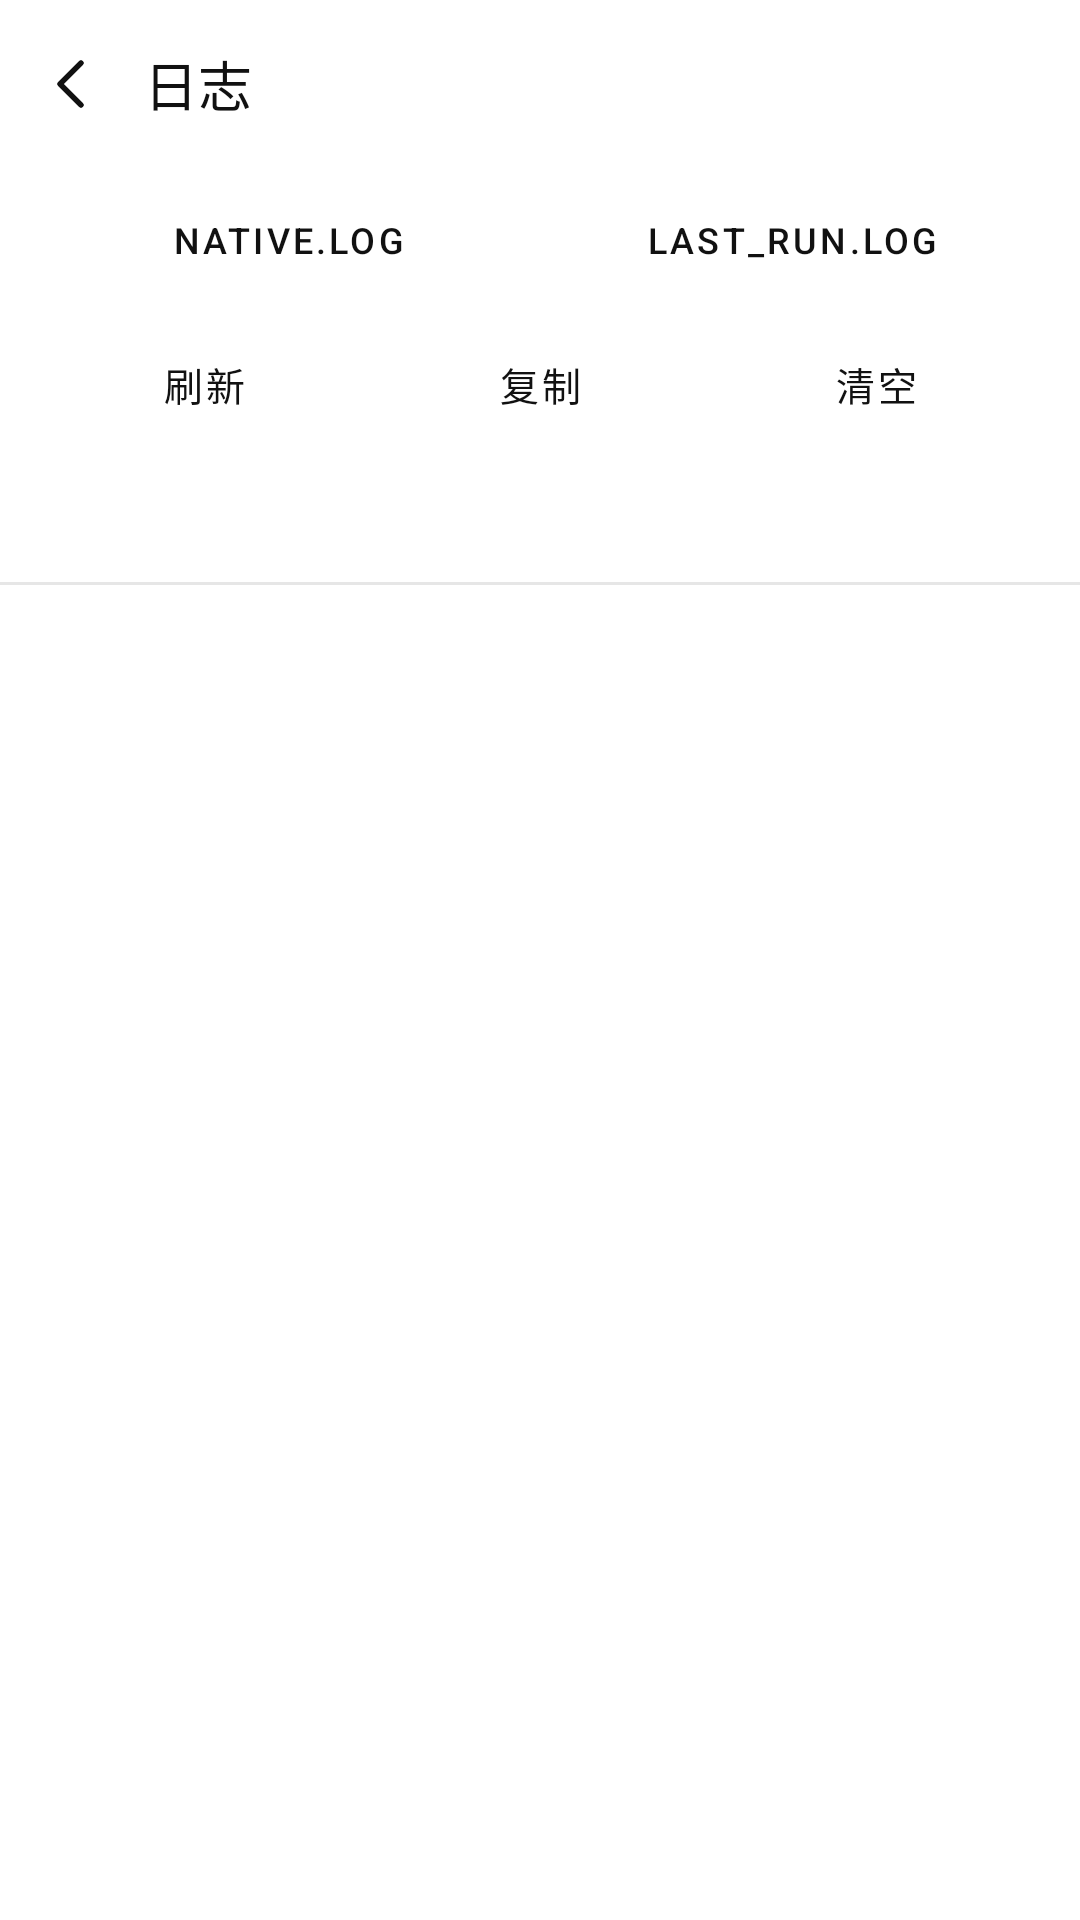

Where icons sit on this 1080px x 1920px app screen, as (x1, y1, x2, y2):
返回: (57, 60, 84, 108)
